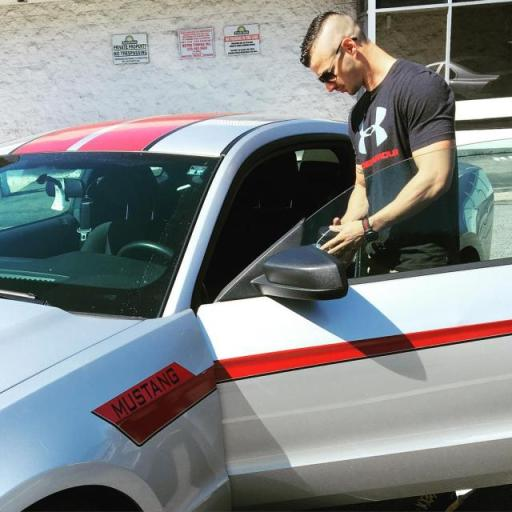Under Armour: (354, 104, 399, 175)
